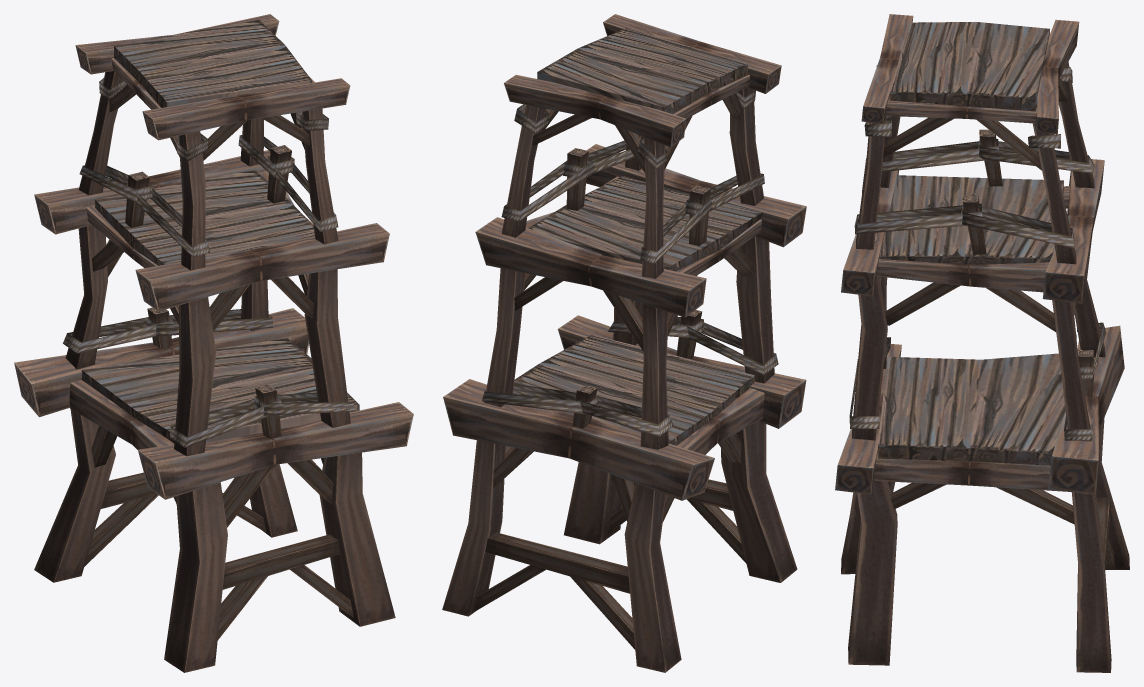
Rendered from mine_tower_01.fbx.
3 renders of one model, left to right at view 1: azimuth 30°, elevation 25°; view 2: azimuth 150°, elevation 25°; view 3: azimuth 270°, elevation 25°, orthographic. The views are drawn at different scales.
Parts seen in each view (by area): view 1: mine_tower_01-0; view 2: mine_tower_01-0; view 3: mine_tower_01-0.
Boxes of the visible parts, box(x1,y1,x2,y2) form: mine_tower_01-0: box(14, 14, 413, 672); mine_tower_01-0: box(442, 14, 806, 672); mine_tower_01-0: box(835, 14, 1129, 672).
Bounding box in the file's own units: 4.47 × 8.65 × 4.19.
